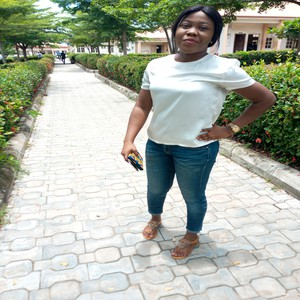Fulokoja_female_student: (147, 6, 219, 254)
